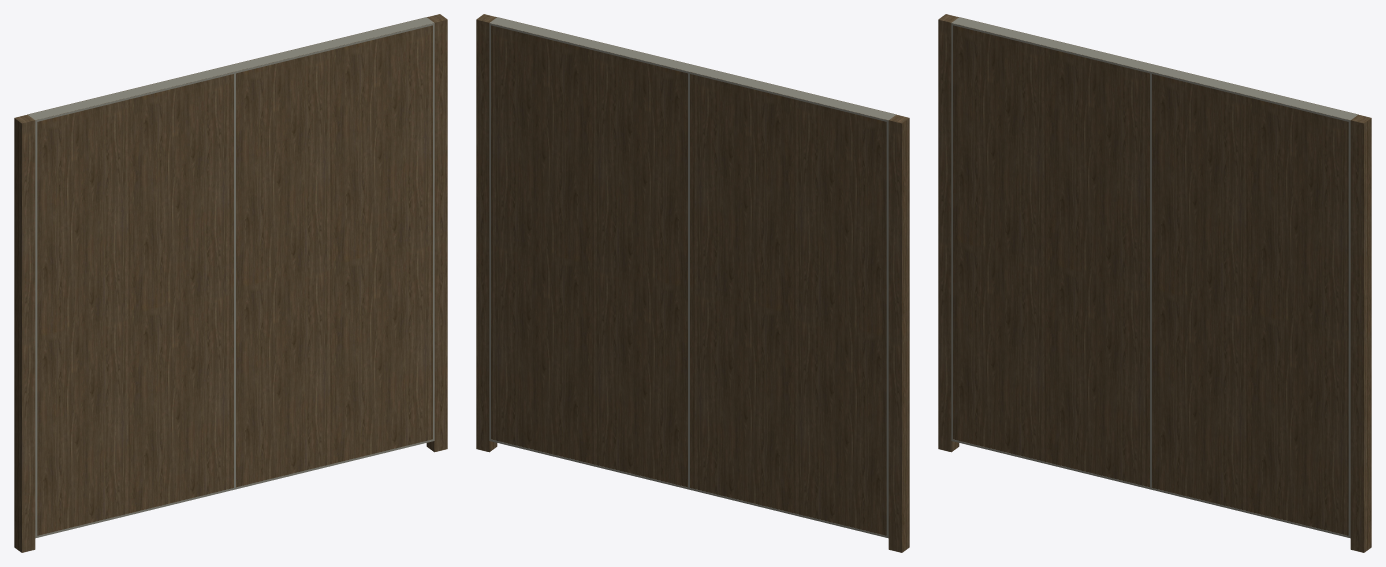
File: ABF5-H1800_brownebony.fbx
3 views of the same model, side by side, from view 1: azimuth 30°, elevation 25°; view 2: azimuth 150°, elevation 25°; view 3: azimuth 330°, elevation 25° (orthographic).
Visible parts, largest first — view 1: ABF5-H1800_brown ebony; view 2: ABF5-H1800_brown ebony; view 3: ABF5-H1800_brown ebony.
Part boxes in pixels (x1,y1,x2,y2): ABF5-H1800_brown ebony: (14,14,447,552); ABF5-H1800_brown ebony: (476,14,909,552); ABF5-H1800_brown ebony: (938,14,1371,552).
Size of the model in its own units: 192 by 185 by 6.4.
4 materials, 3 textured.
